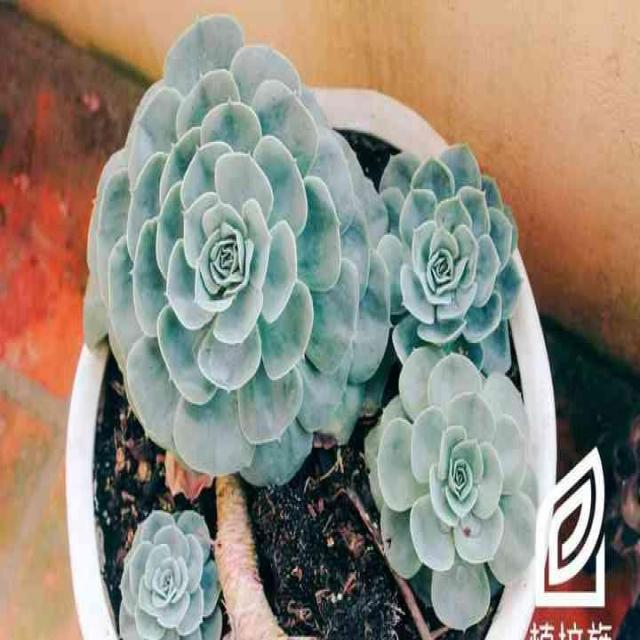organic waste: (84, 16, 388, 457), (351, 347, 541, 630), (368, 144, 534, 348), (100, 494, 223, 638)
